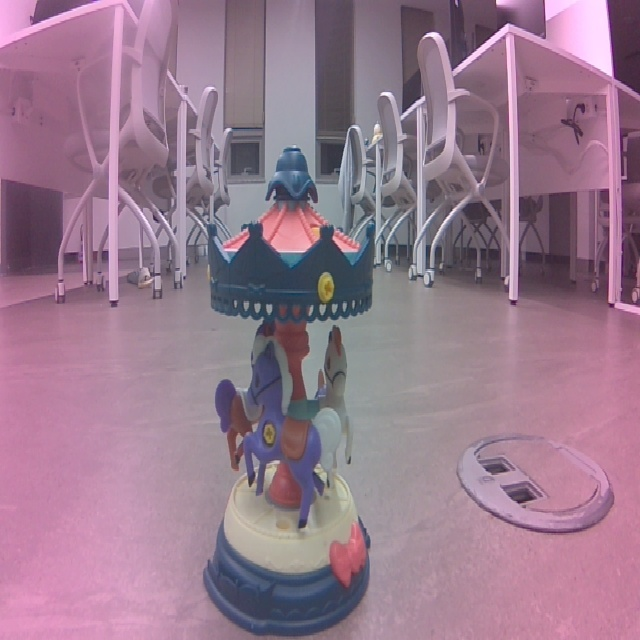목적지: (197, 140, 382, 639)
